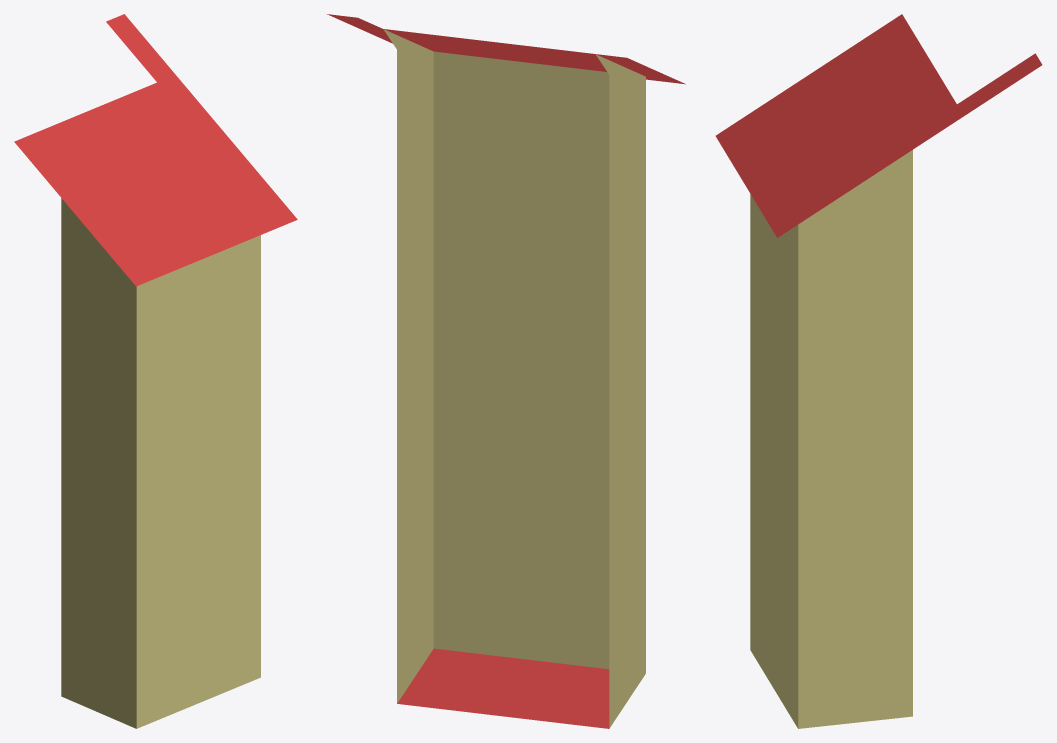
3 views of the same model, side by side, from view 1: azimuth 30°, elevation 25°; view 2: azimuth 150°, elevation 25°; view 3: azimuth 270°, elevation 25° (orthographic). The views are drawn at different scales.
Size of the model in its own units: 5.03 by 5.68 by 12.45.
